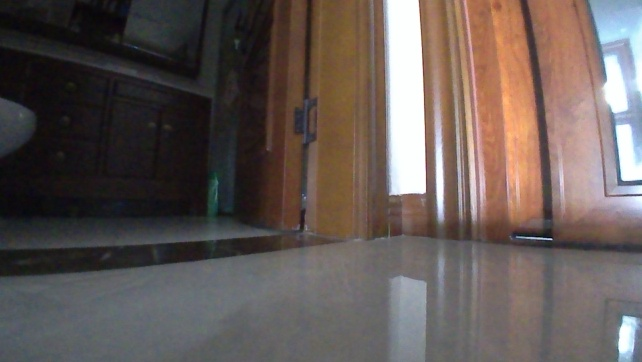door_anno: (230, 0, 312, 240)
